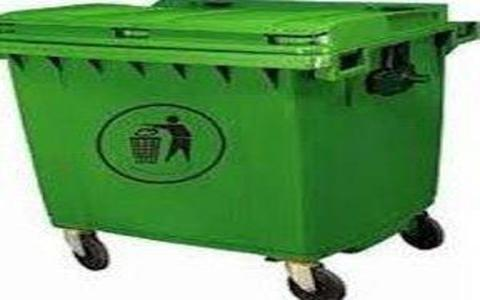Proper garbage: (5, 1, 469, 297)
